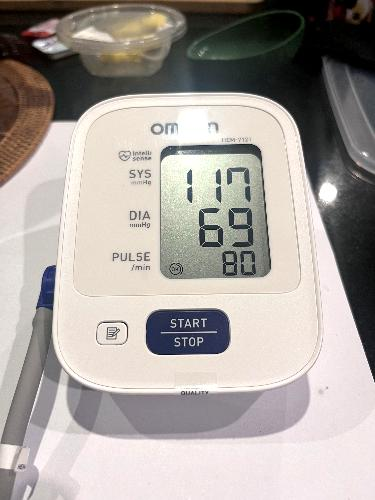bpm: (154, 140, 278, 283)
